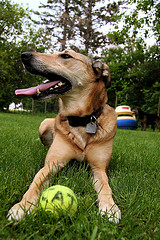tennis ball: (40, 184, 78, 219)
